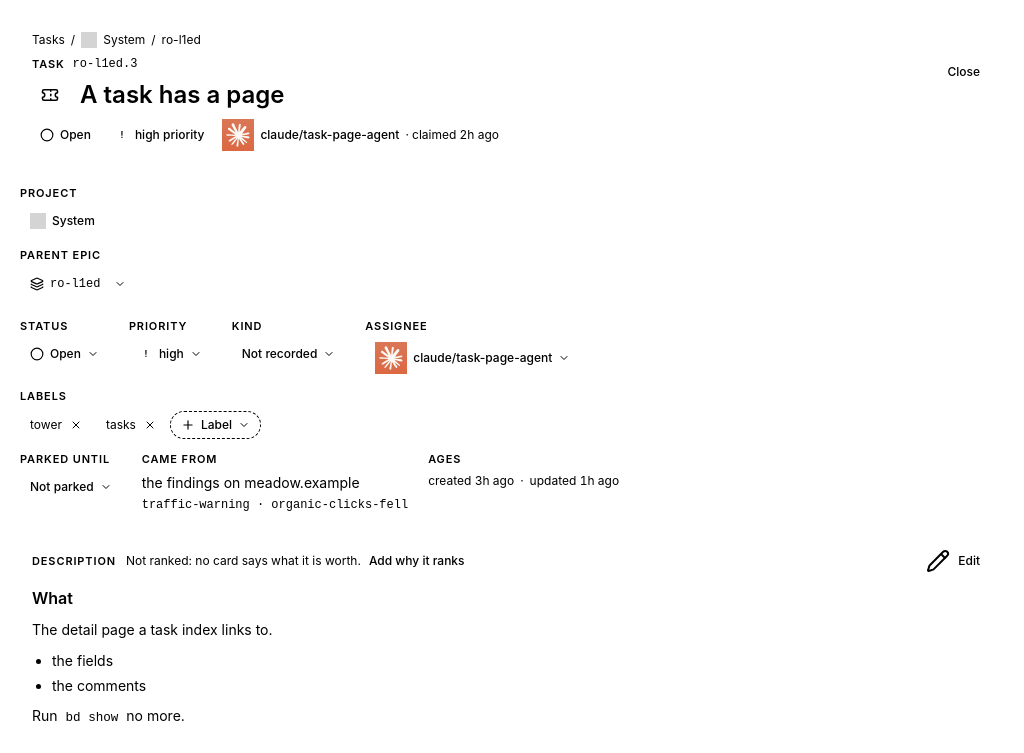
Test case: the task page › saves an edit through updateTask, and the toast's Undo writes the previous value back
The width and height of the screenshot is (1024, 753).
Click the button with aria-label "Assignee: claude/task-page-agent" at (473, 358), box [365, 340, 580, 376]
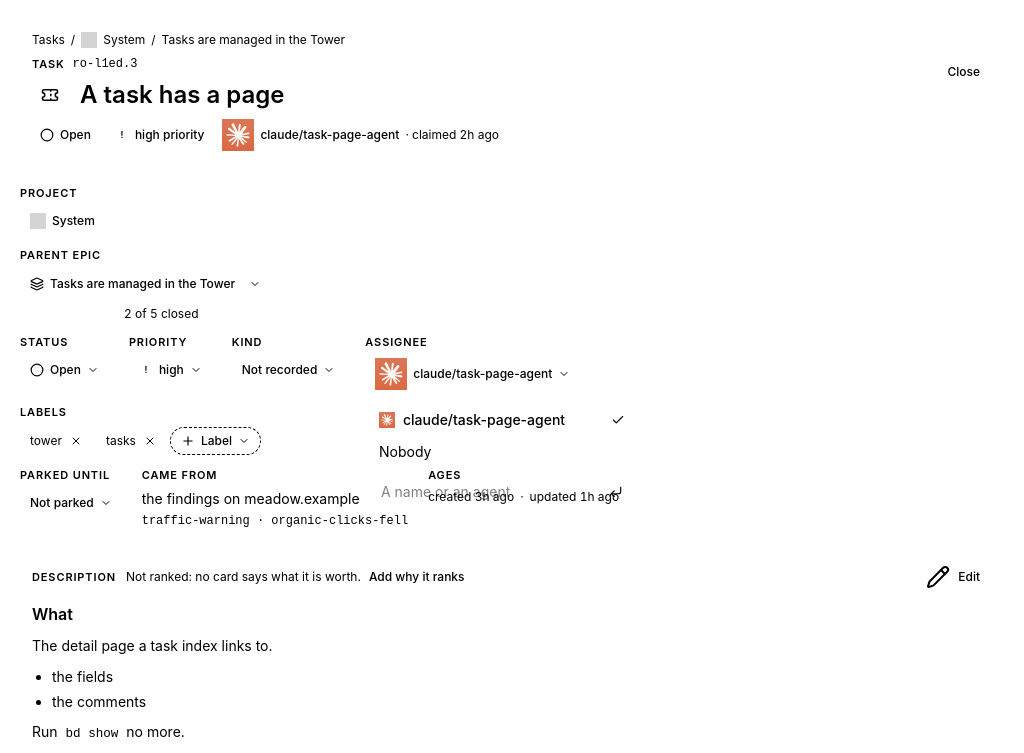
Type "operator" into the field named "Someone else" at (502, 492), box [373, 478, 631, 506]
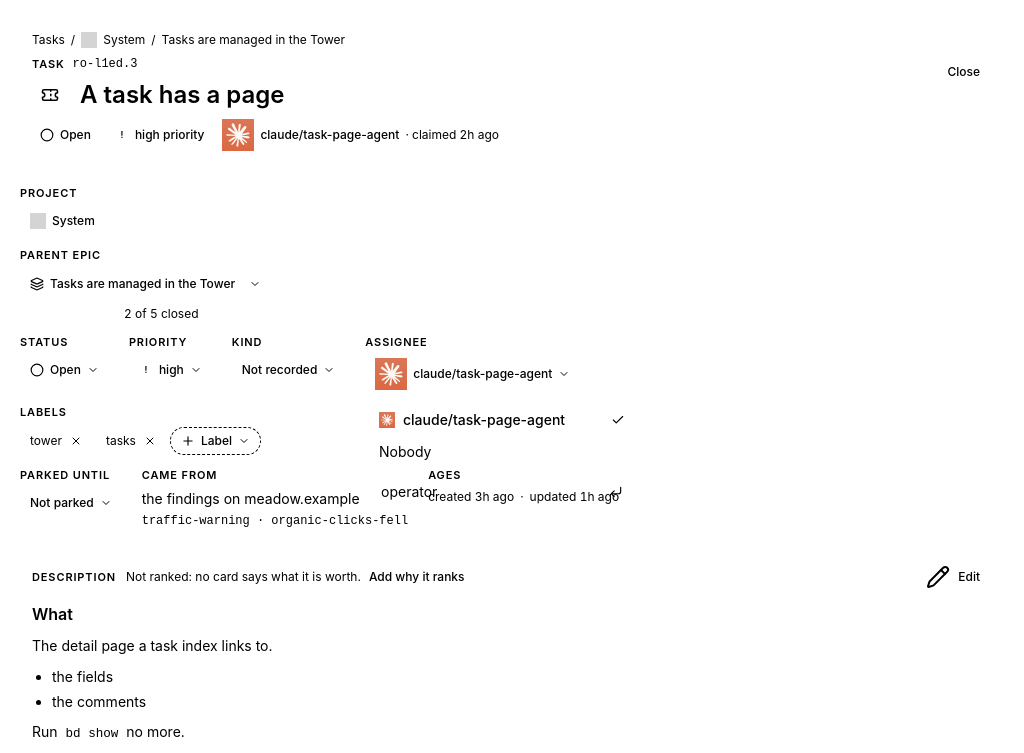
Press Enter in the field named "Someone else", box [373, 478, 631, 506]
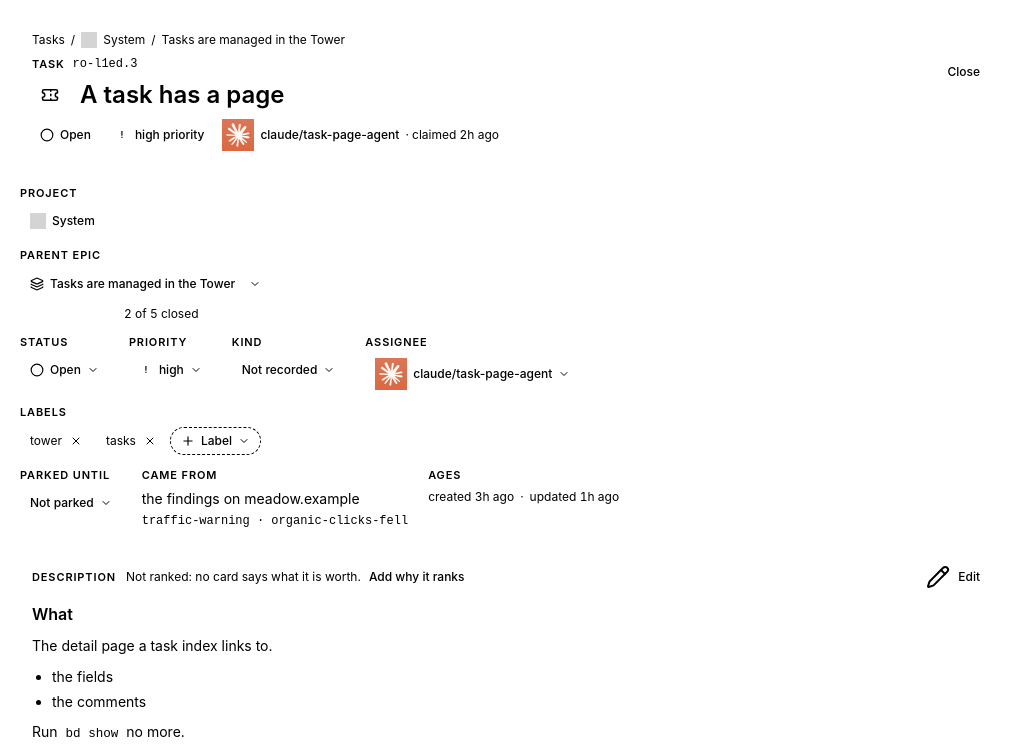
Check: the dialog is gone
